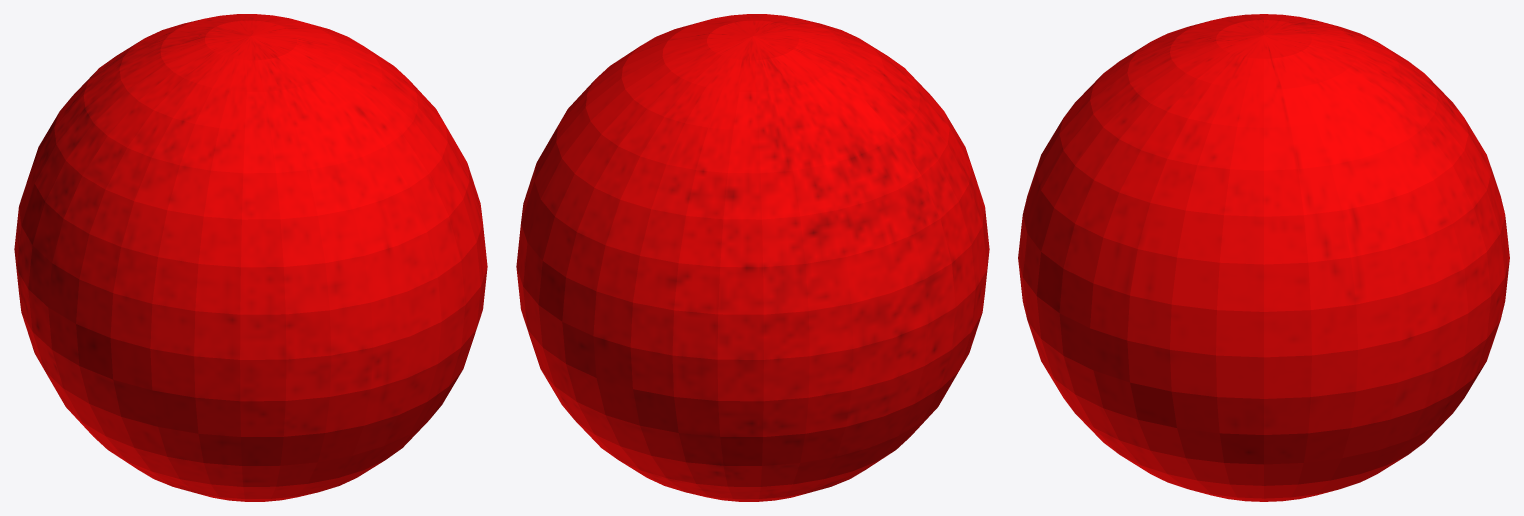
The model's file is hands.fbx.
3 renders of one model, left to right at view 1: azimuth 30°, elevation 25°; view 2: azimuth 150°, elevation 25°; view 3: azimuth 270°, elevation 25°, orthographic.
Visible parts, largest first — view 1: 球.007; view 2: 球.007; view 3: 球.007.
Boxes of the visible parts, x1=… form: 球.007: x1=14, y1=14, x2=487, y2=501; 球.007: x1=516, y1=14, x2=989, y2=501; 球.007: x1=1018, y1=14, x2=1509, y2=501.
Bounding box in the file's own units: 97.33 × 102 × 102.
